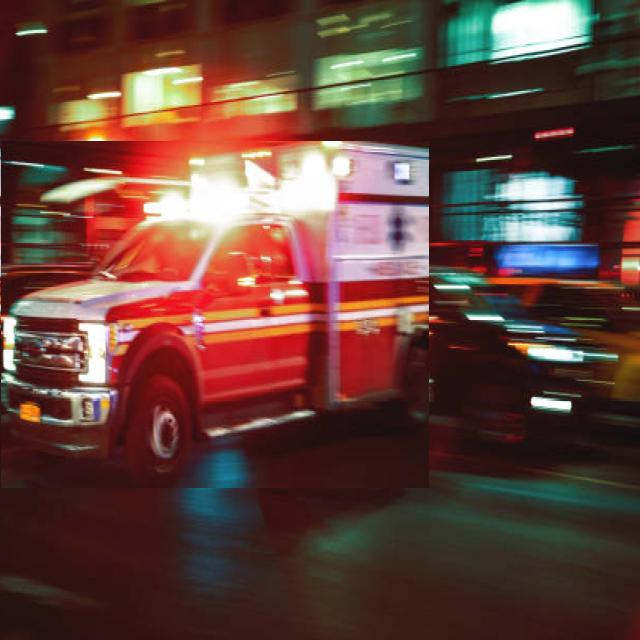emergency: (0, 141, 429, 488)
